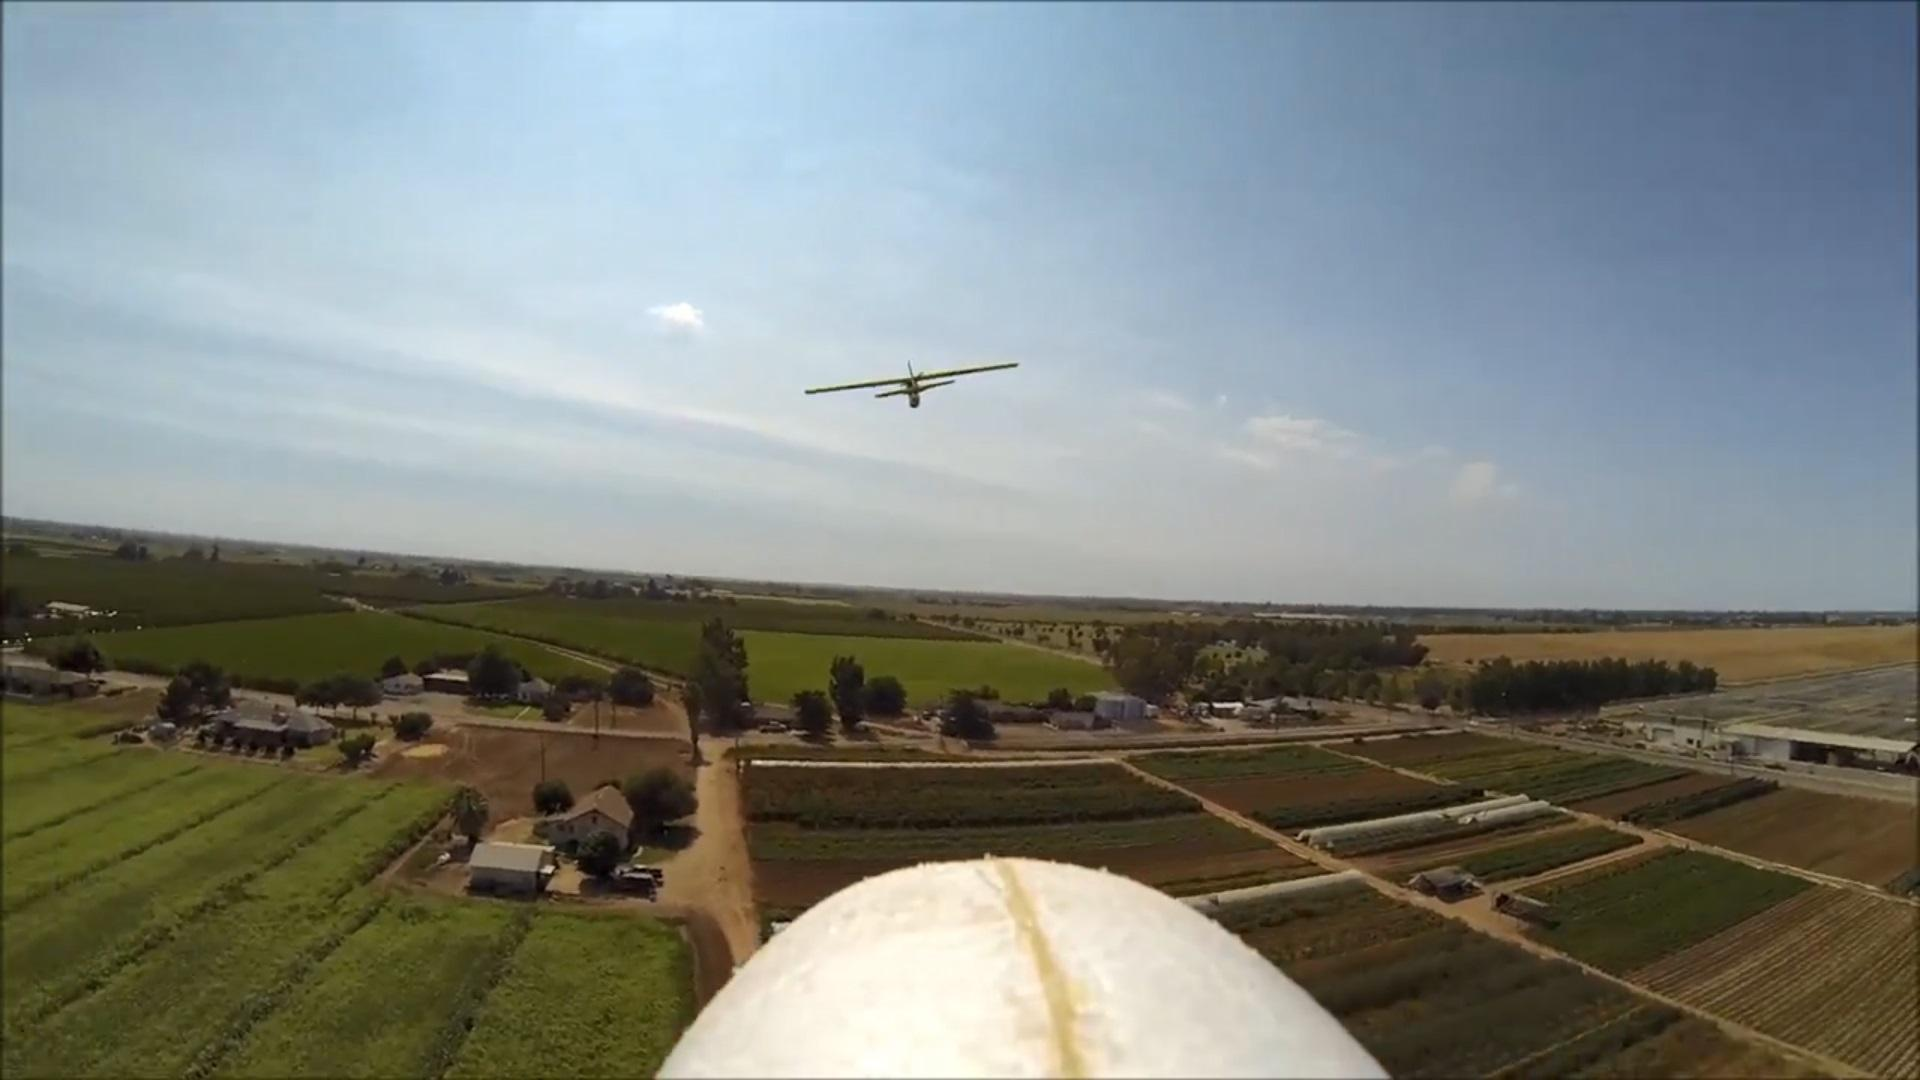Airplane: (795, 360, 1018, 410)
